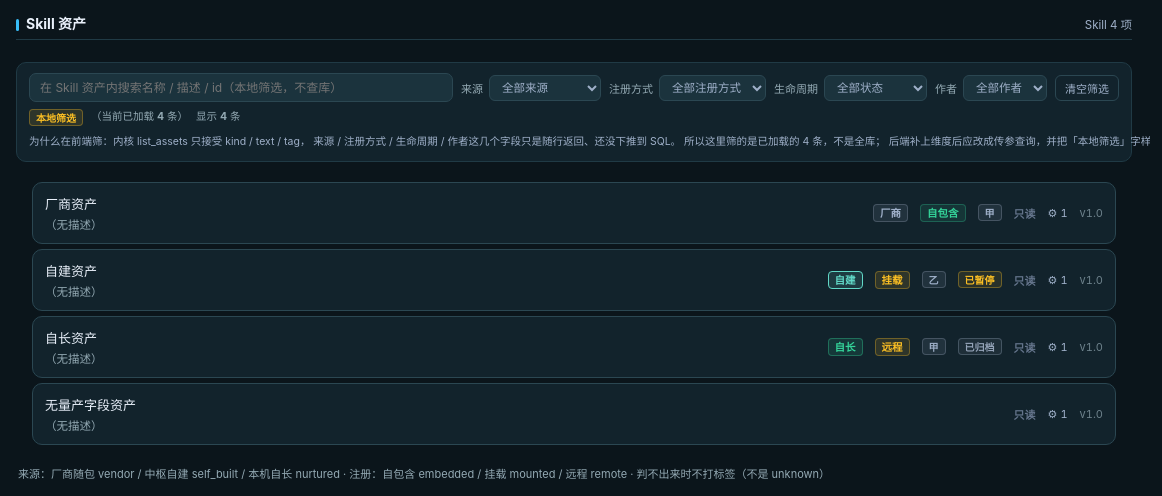
Test: AssetKindPanel · 本地筛选（来源 / 注册方式 / 生命周期 / 作者） › 作者维度：精确匹配该作者的资产（甲有两条）
Expected: the text "厂商资产" is shown, x1=45 y1=196 x2=97 y2=212
Select "甲（2）" in the dropdown labelled "作者" at {"x": 1005, "y": 88}, box x1=963 y1=74 x2=1047 y2=100
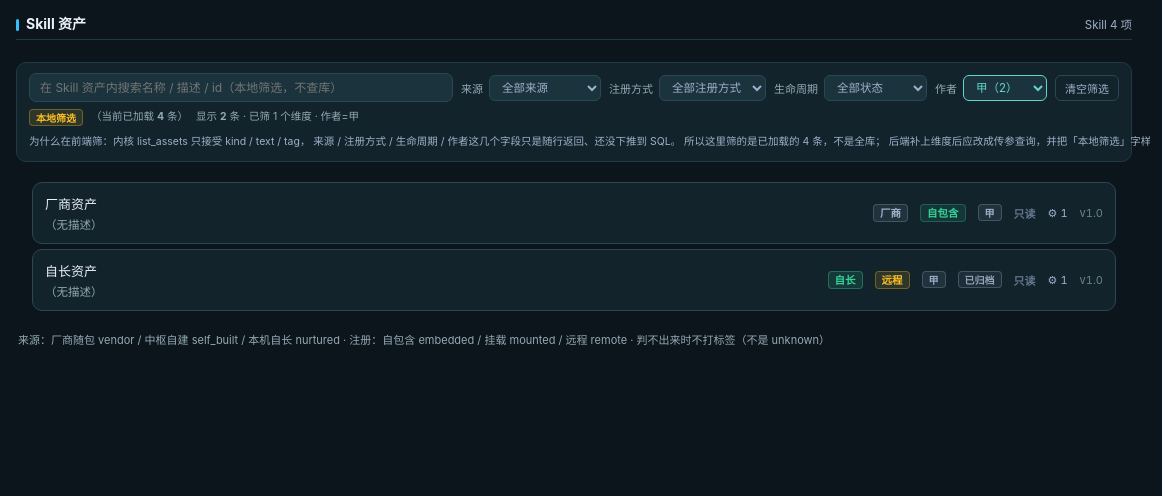
Expected: the text "厂商资产" is shown, x1=45 y1=196 x2=97 y2=212
Now the button "自建资产" is gone
